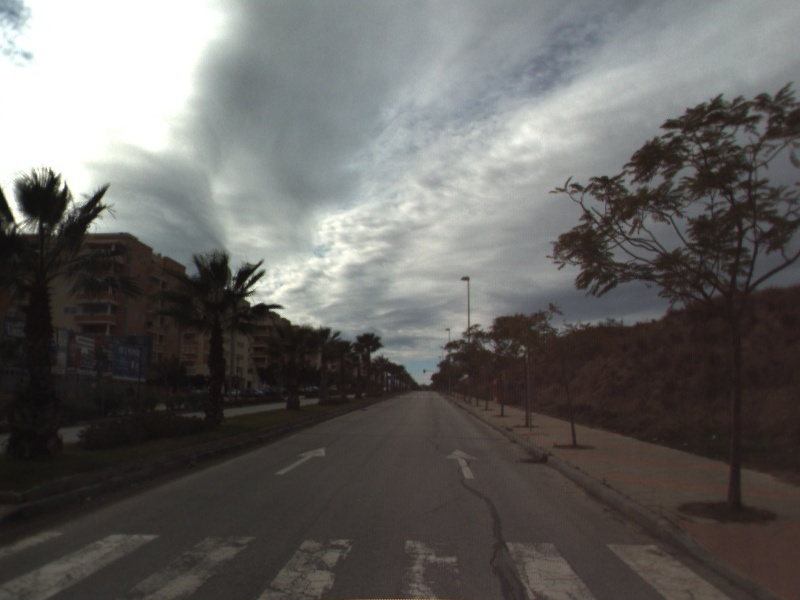STRAIGHT: (272, 445, 328, 477), (444, 447, 480, 481)
